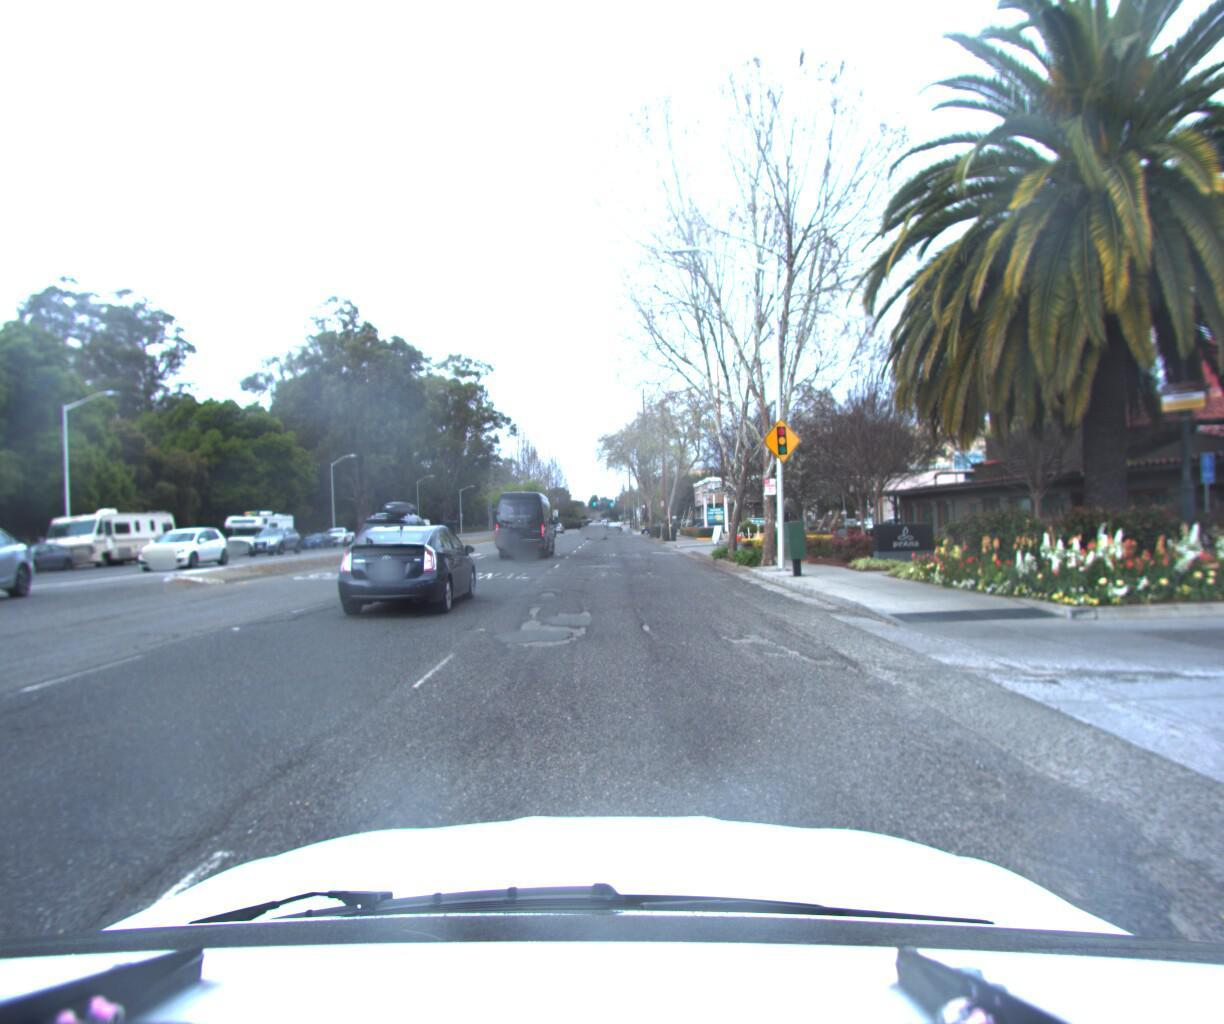car: (333, 520, 490, 624), (358, 501, 451, 573), (134, 526, 246, 573), (250, 528, 313, 559), (858, 513, 930, 538), (325, 528, 362, 550), (588, 518, 611, 537)
other_vehicle: (40, 506, 191, 574), (497, 490, 563, 562), (224, 510, 306, 558)
